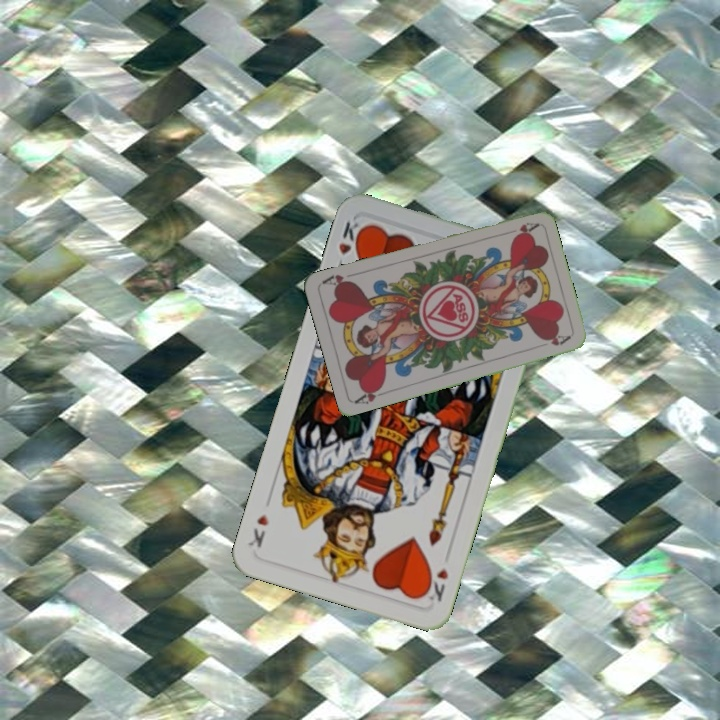HA: (351, 382, 391, 407), (500, 218, 540, 238)
HK: (334, 216, 367, 257), (420, 564, 451, 605)
